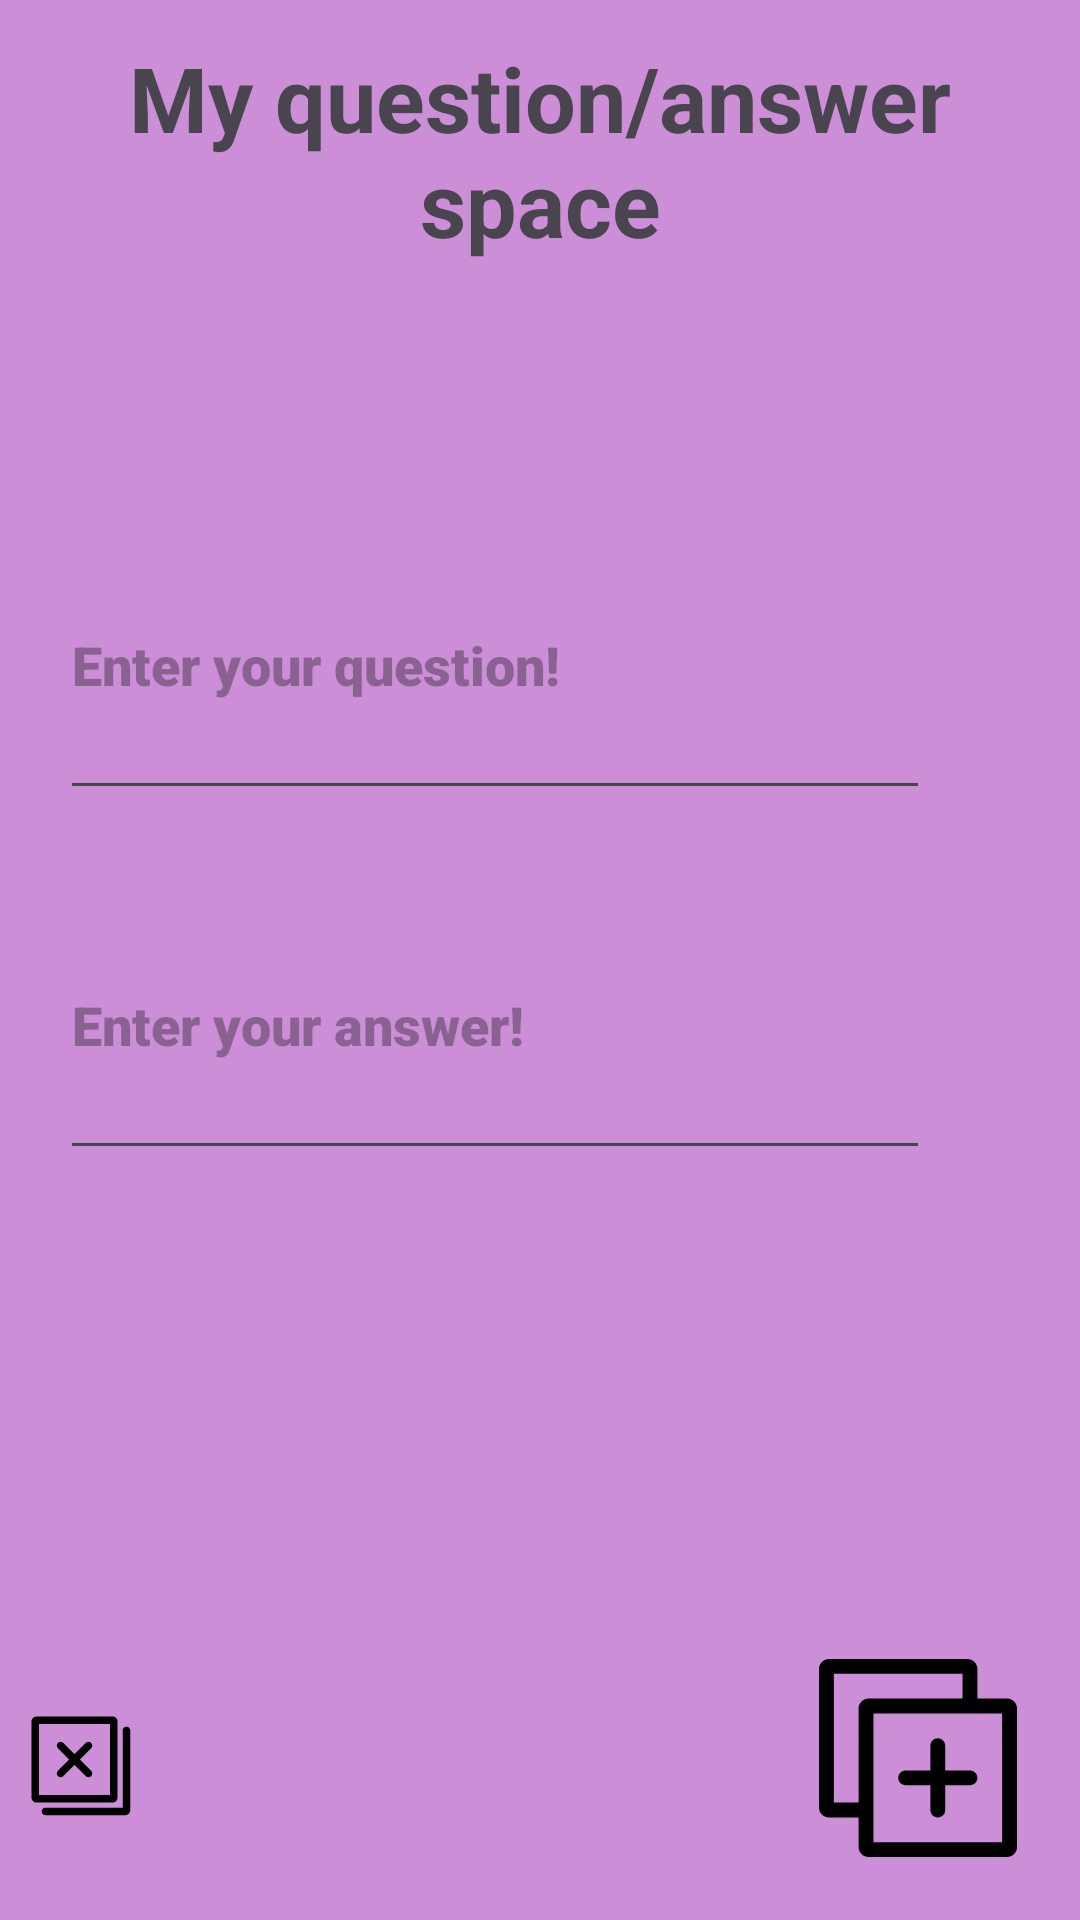

Icons on this 1080 × 1920 Android screen, each with the point to tap as (x,y):
closed: (81,1766)
